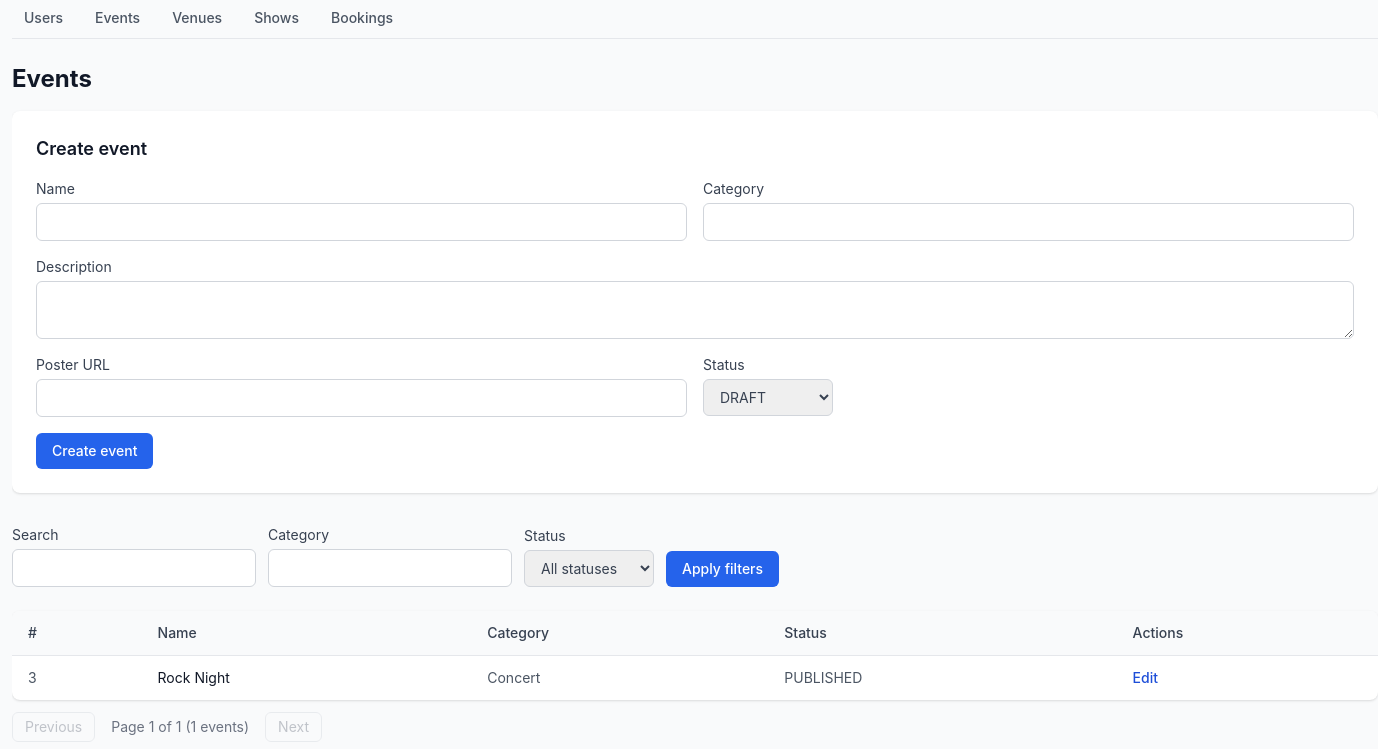
AdminEventsPage › renders the admin event table and creates an event
Expected: the text "Rock Night" is shown, [142,656,471,700]
Type "New Fest" into the field named "Event name" at (362, 222), box [36,203,687,241]
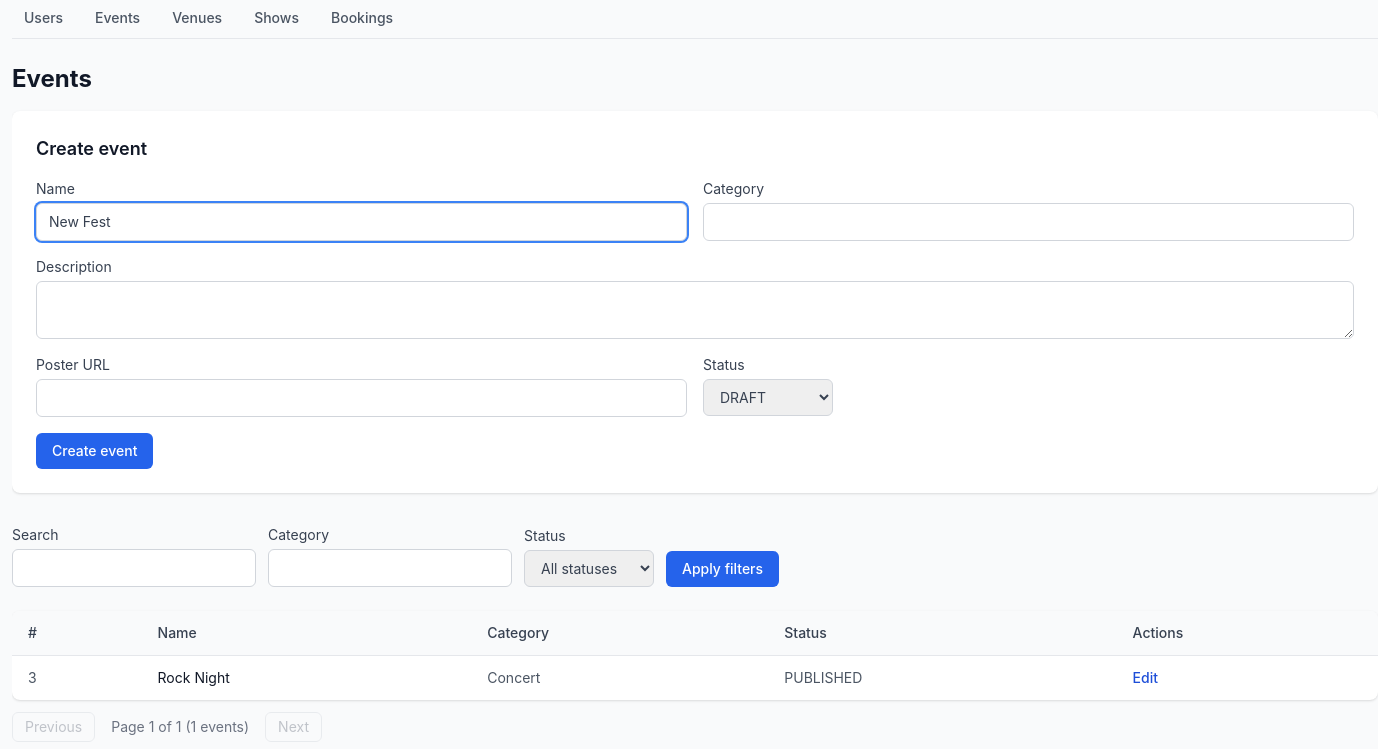
Click the button "Create event" at (95, 451), box [36,433,154,469]
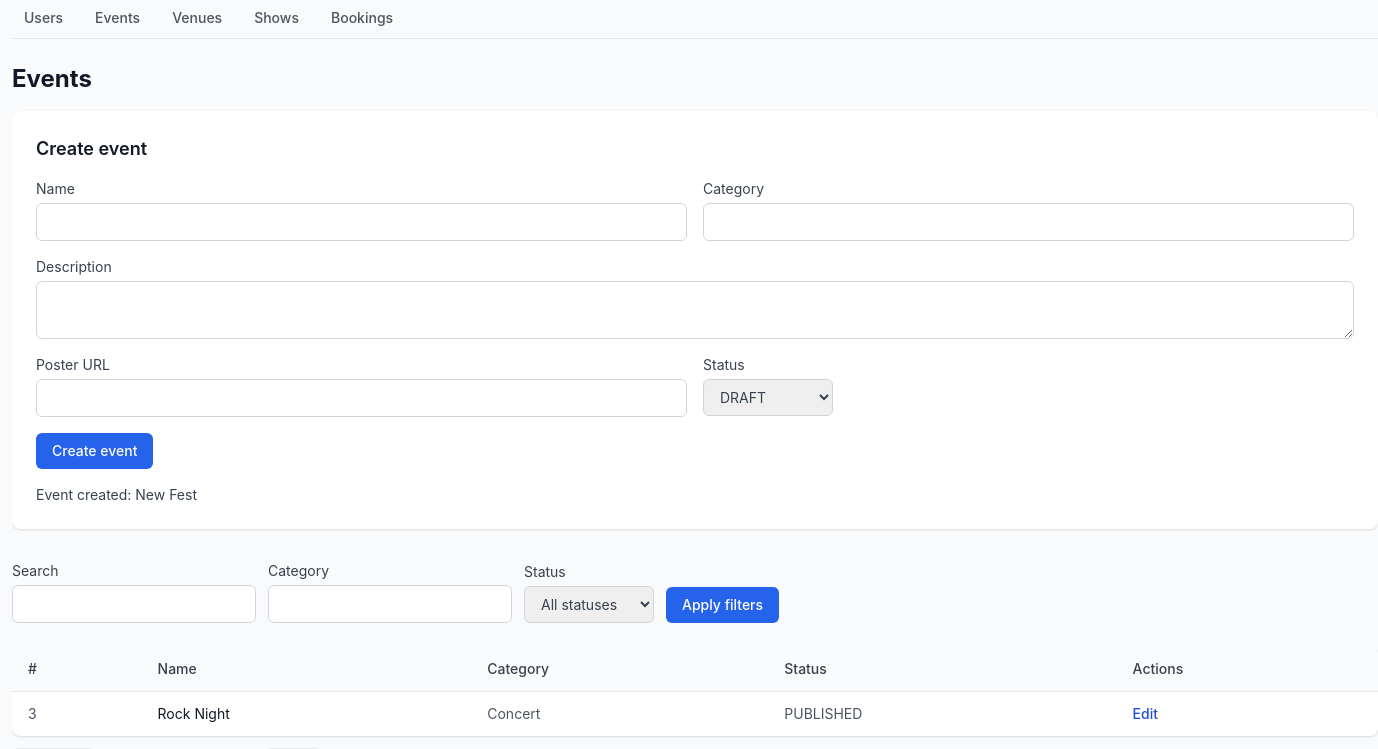
Result: the text "Event created: New Fest" is shown at [36,486,197,503]
